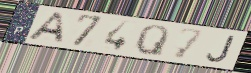4: (101, 19, 130, 53)
7: (71, 12, 104, 48), (173, 26, 205, 61)
A: (25, 11, 66, 45)
J: (205, 34, 237, 64)
Q: (133, 24, 172, 59)
